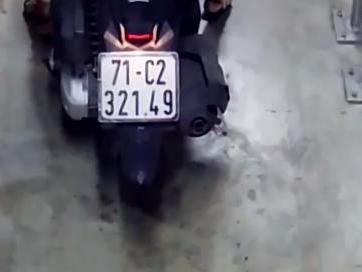num_plate: (98, 51, 179, 120)
